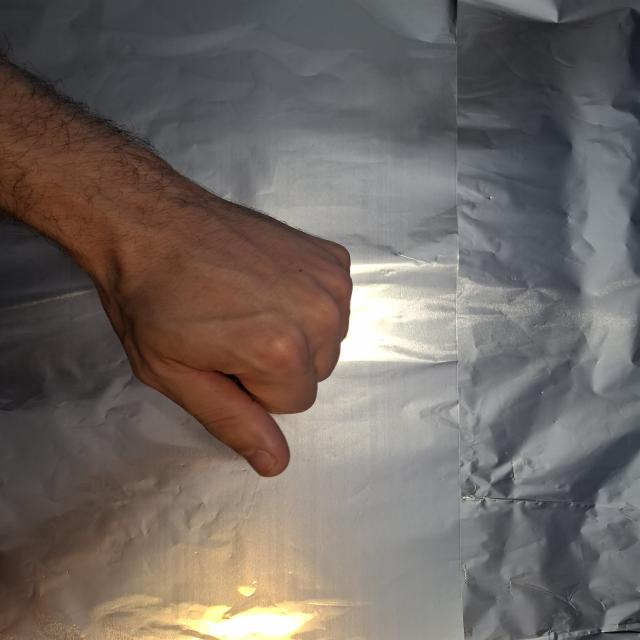glove_off: (62, 168, 358, 482)
